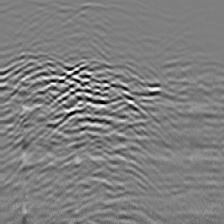cavities: (29, 51, 149, 136)
